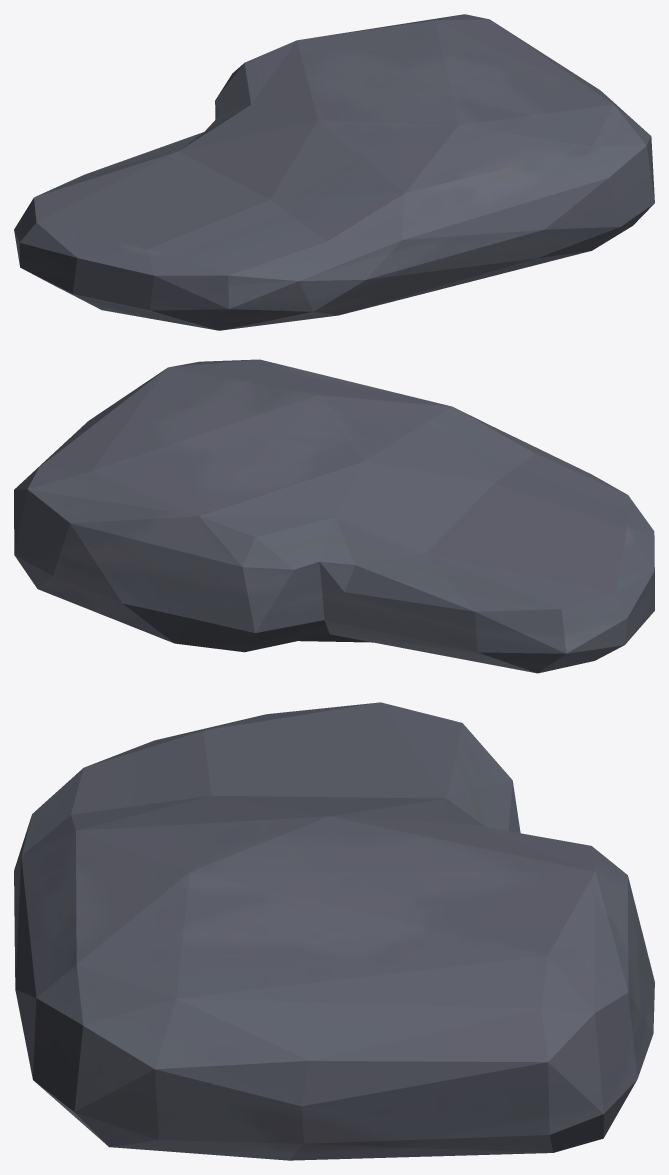
The model's file is piedra3Dani.fbx.
The picture shows the model from 3 angles, top to bottom: view 1: azimuth 30°, elevation 25°; view 2: azimuth 150°, elevation 25°; view 3: azimuth 270°, elevation 25°; orthographic projection. The views are drawn at different scales.
Parts seen in each view (by area): view 1: Cube.004; view 2: Cube.004; view 3: Cube.004.
Part boxes in pixels (x1=…): Cube.004: x1=14, y1=14, x2=654, y2=330; Cube.004: x1=14, y1=359, x2=654, y2=673; Cube.004: x1=14, y1=702, x2=654, y2=1160.
Bounding box in the file's own units: 3.56 × 0.8415 × 2.42.
